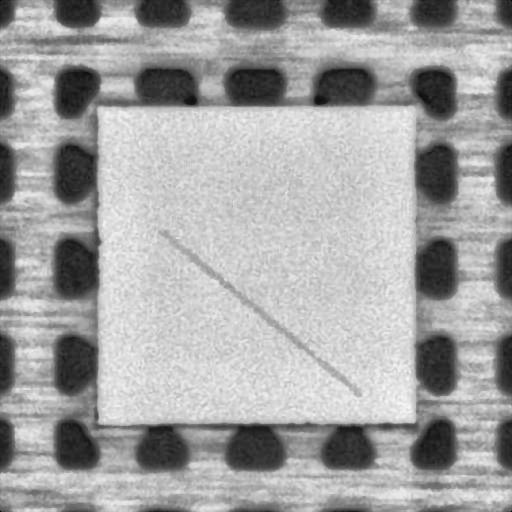DIE_CRACK: (159, 230, 358, 394)
